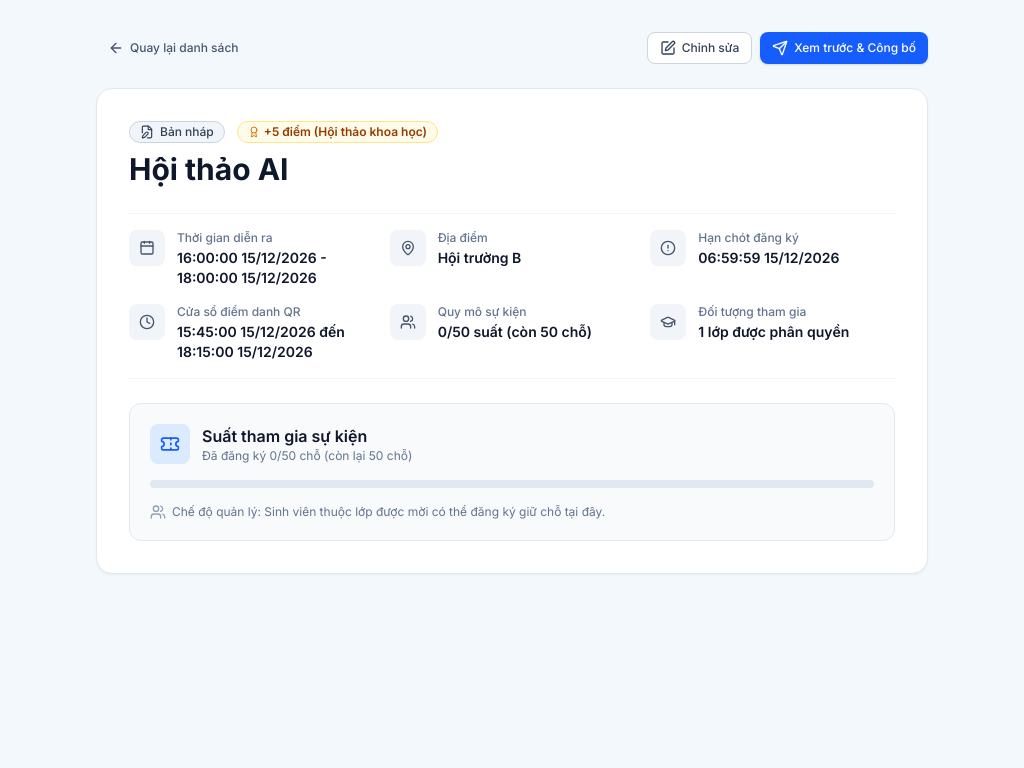
Test: EventDetailPage publish flow [QE-65] › publishes exactly once with confirm: true and the previewVersion returned by preview
Click the button "Xem trước & Công bố" at (844, 48), box 760,32 -> 928,64
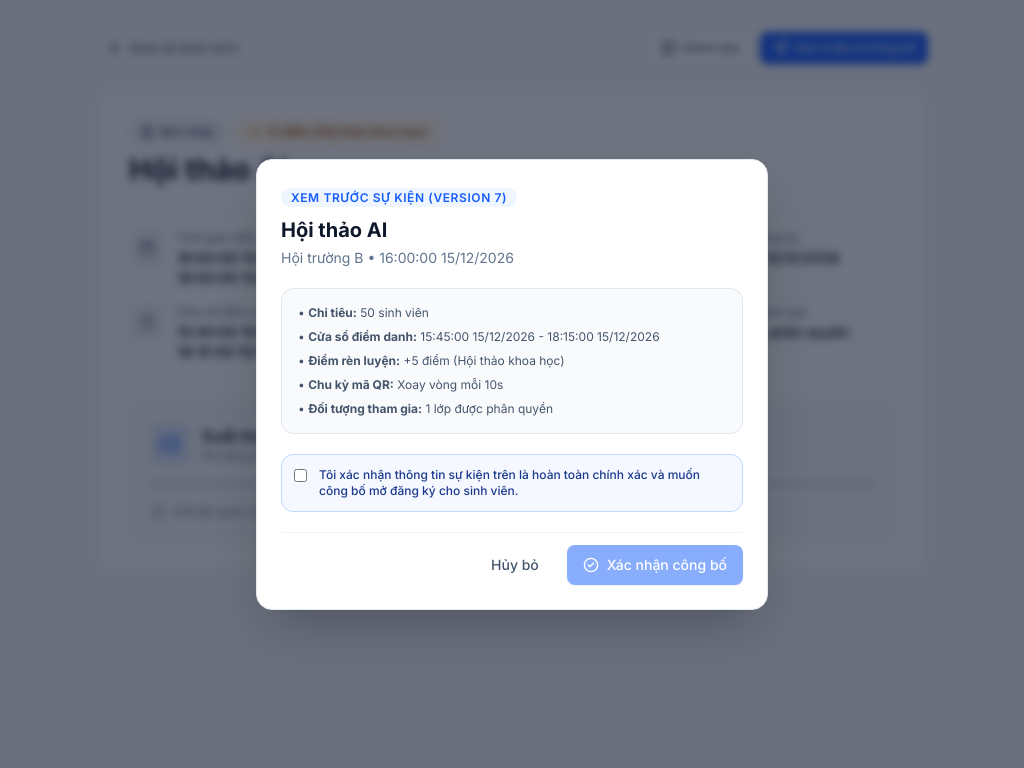
Click the checkbox at (300, 475), box 294,468 -> 307,482
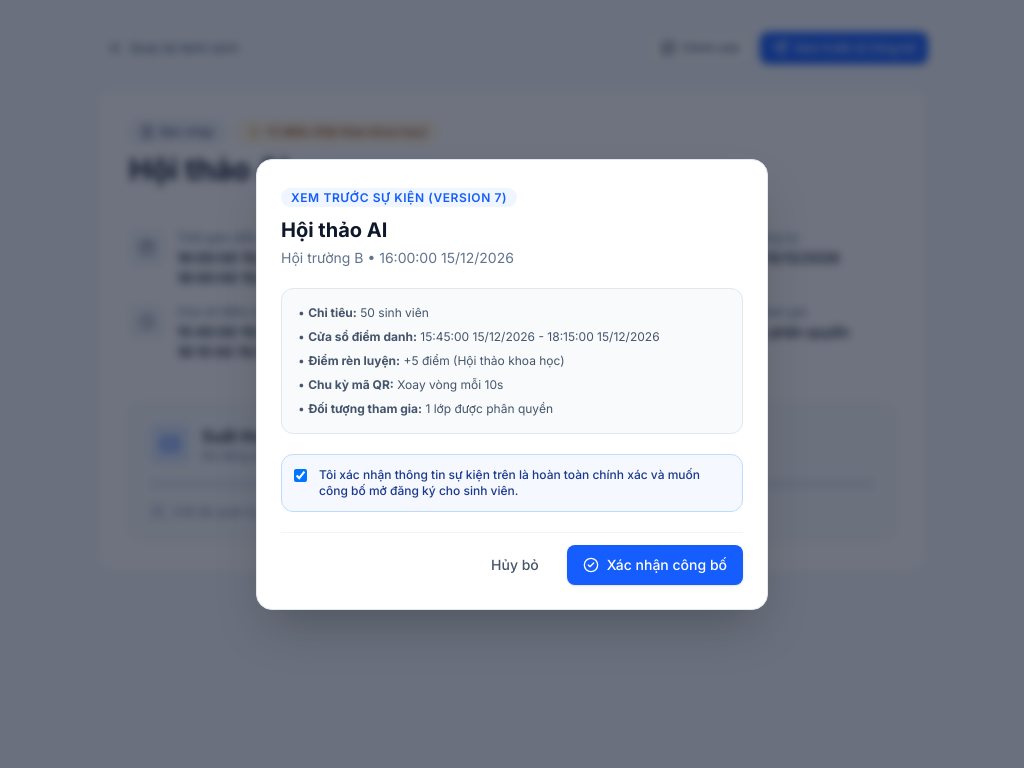
Click the button "Xác nhận công bố" at (655, 564), box 567,544 -> 743,584
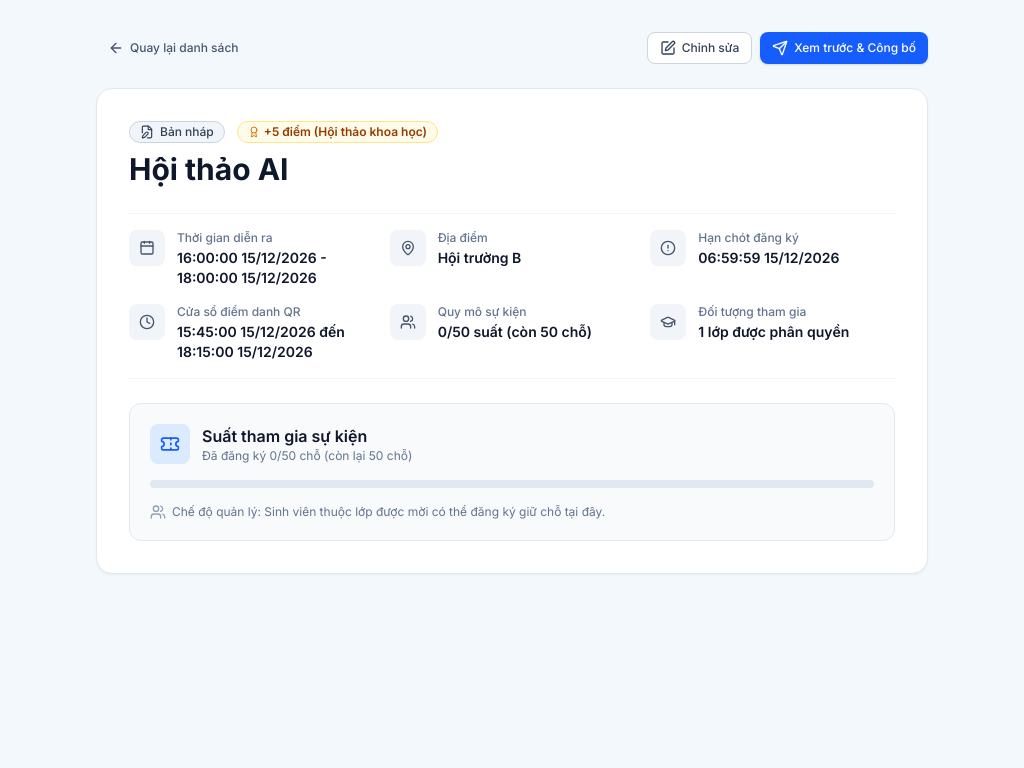
expect the checkbox is gone: met
